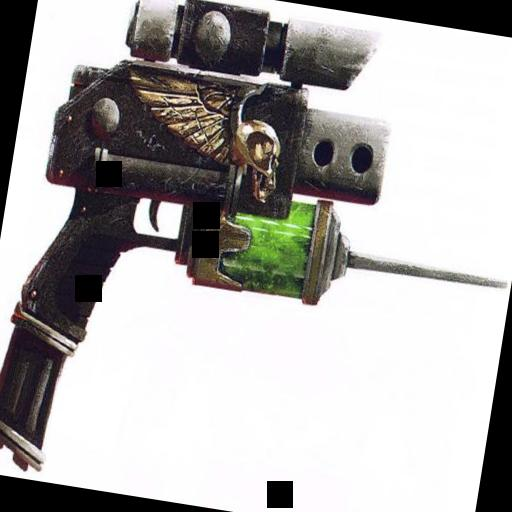Handgun: (0, 0, 398, 512)
